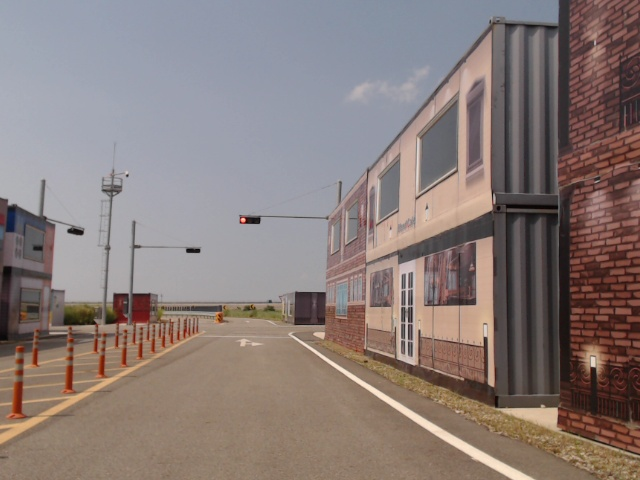red_3: (239, 217, 259, 223)
